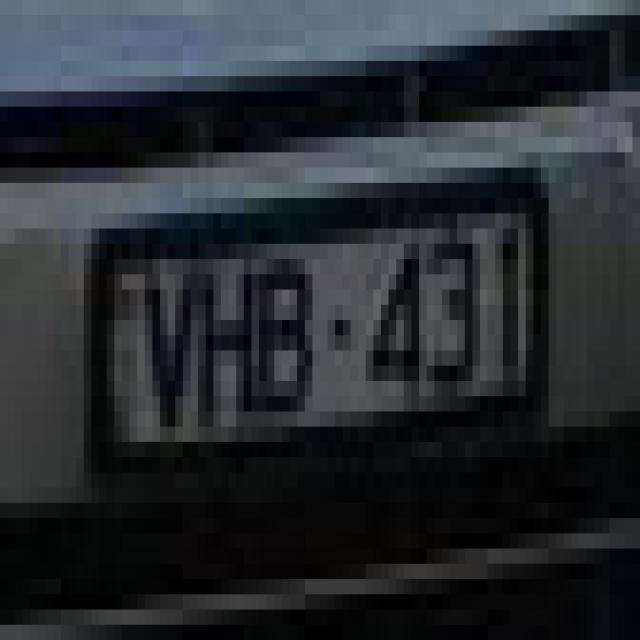1: (489, 215, 526, 386)
3: (425, 227, 482, 396)
4: (358, 238, 426, 411)
B: (256, 240, 322, 428)
H: (194, 250, 256, 435)
V: (139, 256, 197, 448)
